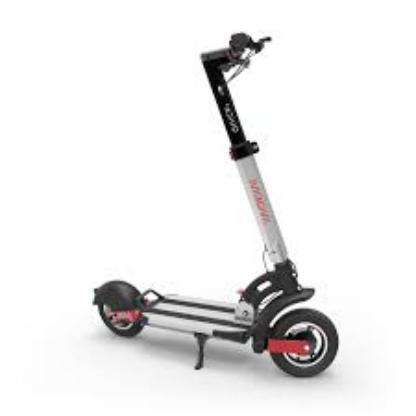bike: (92, 280, 339, 379)
